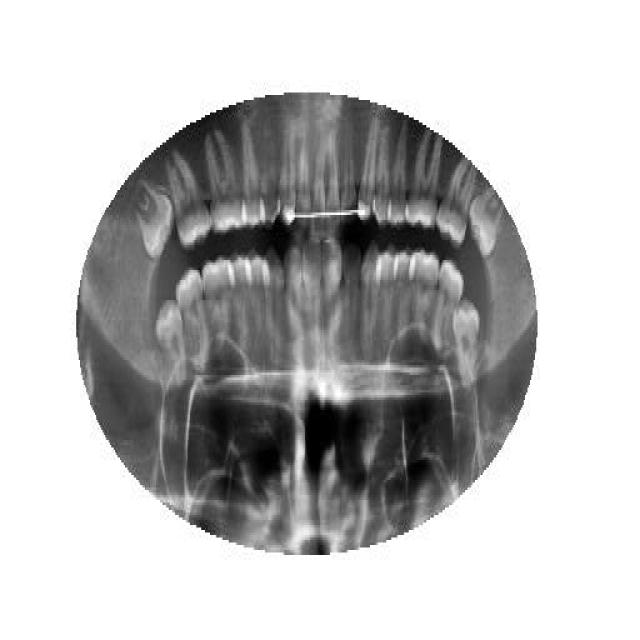Impacted Tooth: (134, 182, 174, 260), (451, 295, 481, 393), (466, 188, 504, 258)
